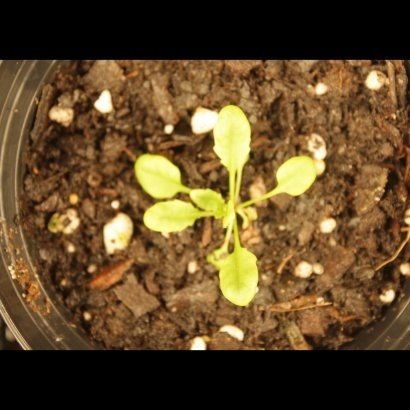leaf: (208, 236, 270, 312), (206, 96, 258, 175), (270, 146, 326, 205), (132, 147, 193, 201), (136, 197, 196, 248), (191, 181, 235, 221)
